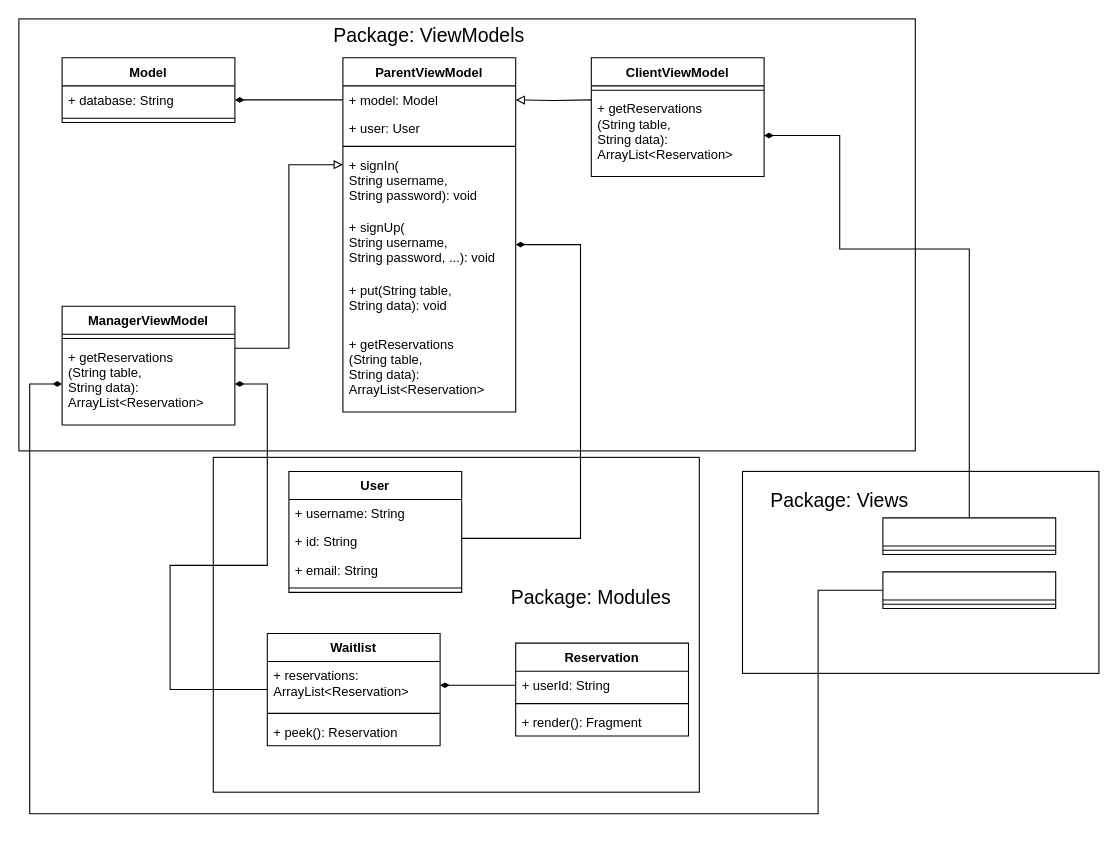
The diagram is 1118 pixels wide and 841 high, and some of its shapes have lost their labels. Here are the shapes that lost their labels. From the top down, the centre of each, then its label:
(x=969, y=536): ClientView
(x=969, y=590): ManagerView
